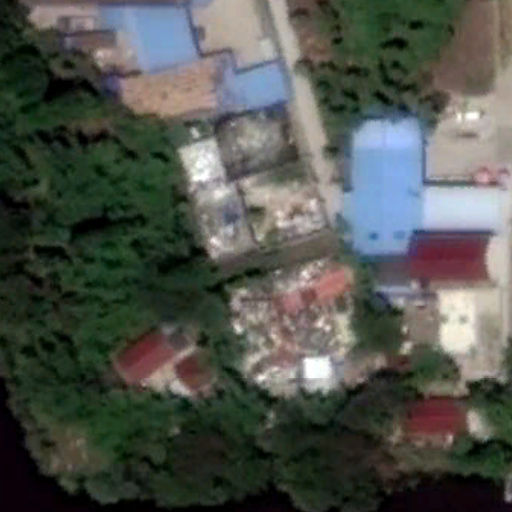msw: (180, 111, 328, 251), (233, 259, 361, 382)
